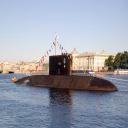submarine: (17, 56, 121, 92)
